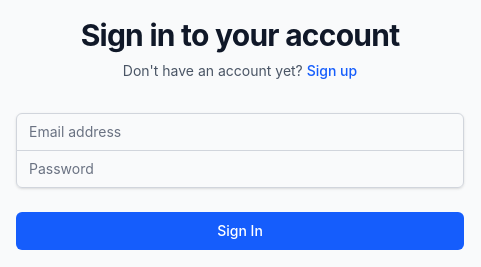
Test: Login › toggles to sign up
Click the button "Sign up" at (332, 70), box [307, 60, 357, 80]
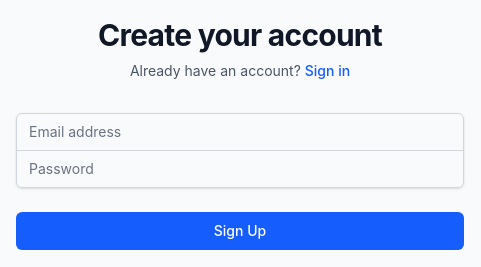
expect the heading "Create your account" is shown: met, box [98, 16, 382, 52]
